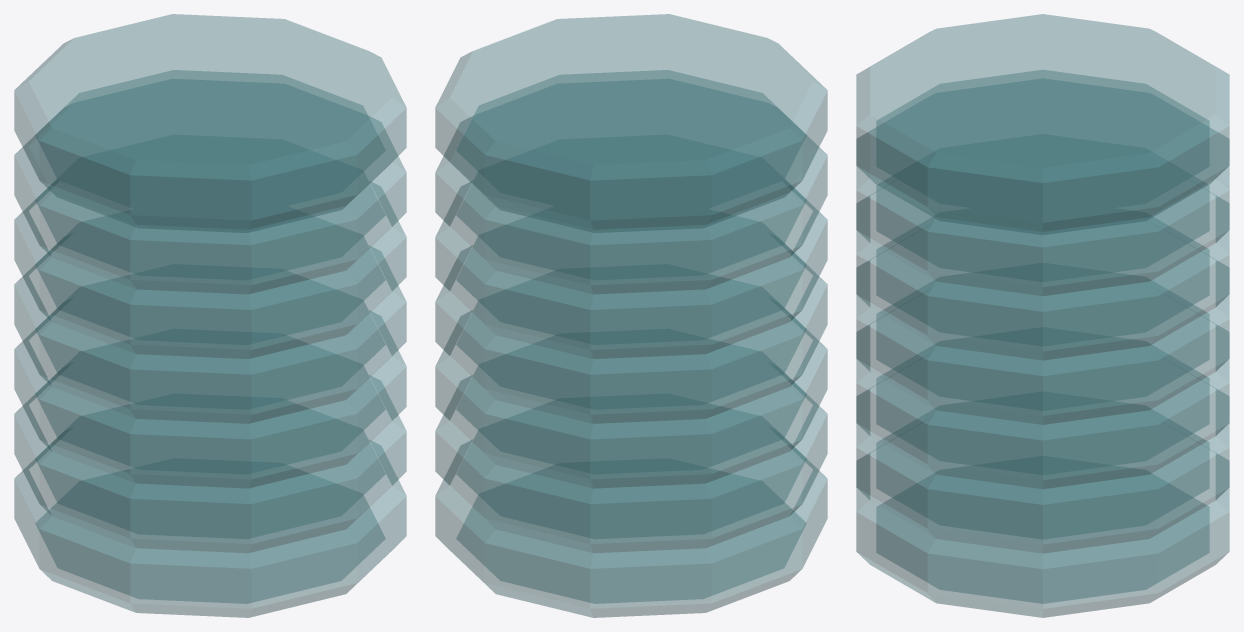
The model's file is petri-dish-stack-cea273.glb.
3 renders of one model, left to right at view 1: azimuth 30°, elevation 25°; view 2: azimuth 150°, elevation 25°; view 3: azimuth 270°, elevation 25°, orthographic.
Visible parts, largest first — view 1: stack, top-dish-glass; view 2: stack, top-dish-glass; view 3: stack, top-dish-glass.
Boxes of the visible parts, bbox=[...] form: stack: bbox=[14, 116, 406, 617]; top-dish-glass: bbox=[14, 14, 406, 232]; stack: bbox=[435, 116, 827, 617]; top-dish-glass: bbox=[435, 14, 827, 232]; stack: bbox=[856, 128, 1229, 617]; top-dish-glass: bbox=[856, 14, 1229, 234].
Bounding box in the file's own units: 0.094 × 0.119 × 0.0894.
